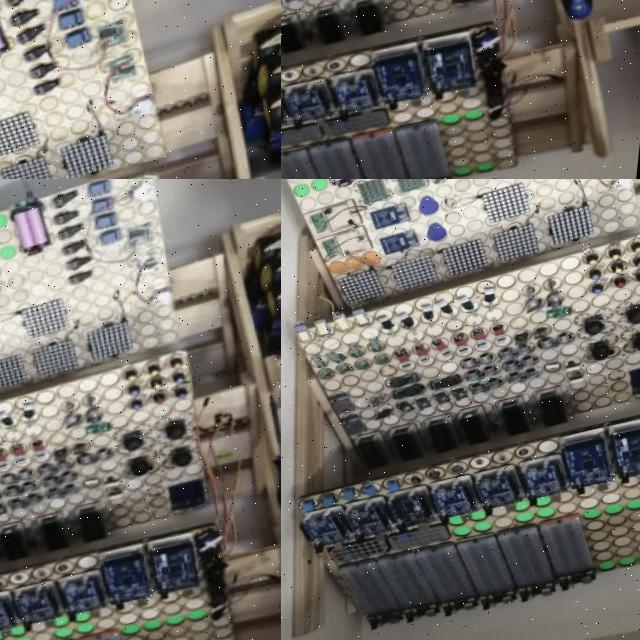Green-circles: (130, 606, 220, 640), (586, 492, 640, 530), (456, 507, 510, 544), (59, 604, 114, 640), (521, 491, 569, 531), (447, 105, 498, 130), (462, 155, 511, 179), (0, 620, 47, 640), (610, 543, 640, 574)
